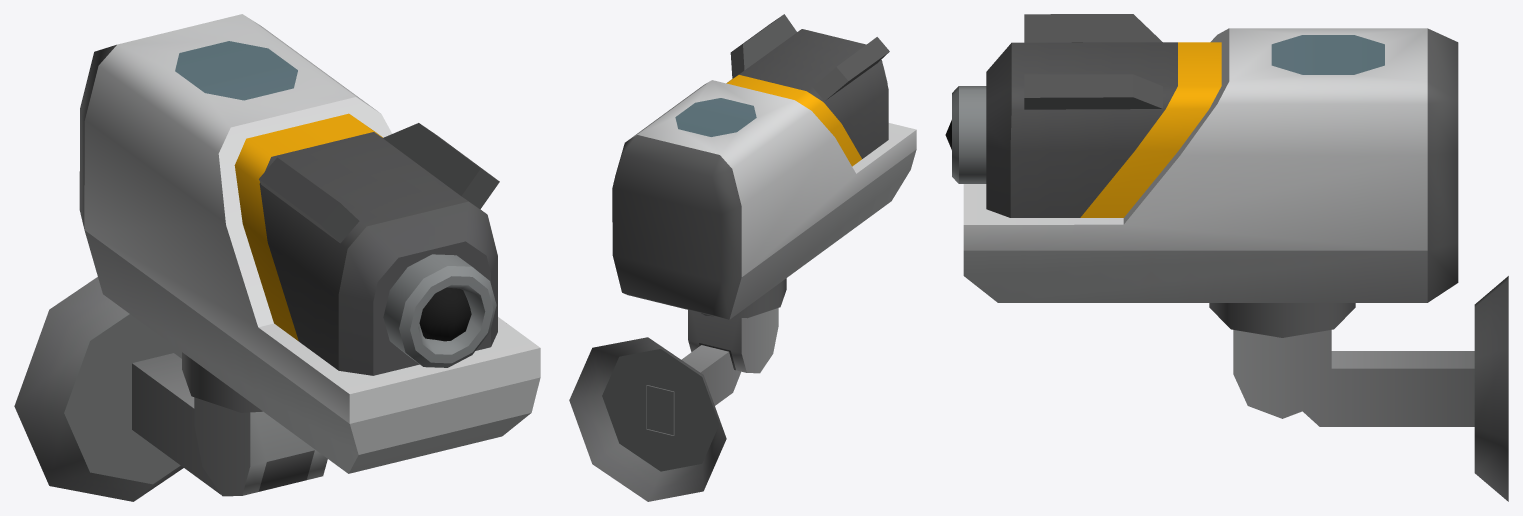
Rendered from Security_cam_012.glb.
3 views of the same model, side by side, from view 1: azimuth 30°, elevation 25°; view 2: azimuth 150°, elevation 25°; view 3: azimuth 270°, elevation 25° (orthographic). The views are drawn at different scales.
Visible parts, largest first — view 1: Cam_012, Security_cam_012, Support_004; view 2: Cam_012, Security_cam_012, Support_004; view 3: Cam_012, Security_cam_012, Support_004.
Part boxes in pixels (box(x1,y1,x2,y2)): Cam_012: box(79, 14, 540, 473); Security_cam_012: box(14, 277, 220, 501); Support_004: box(194, 397, 327, 496); Cam_012: box(612, 14, 916, 319); Security_cam_012: box(569, 337, 740, 501); Support_004: box(688, 308, 778, 373); Cam_012: box(945, 14, 1458, 337); Security_cam_012: box(1303, 276, 1508, 501); Support_004: box(1233, 330, 1331, 418).
Size of the model in its own units: 0.2045 by 0.4253 by 0.4783.
Materials: 2 (1 with a texture image).
